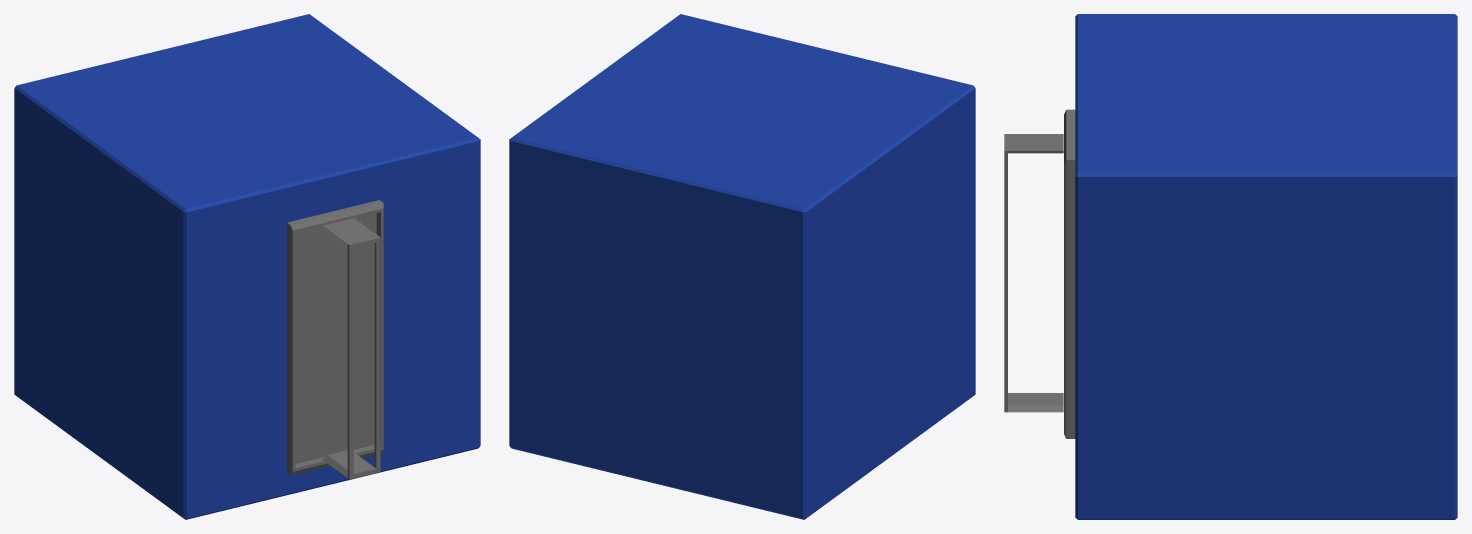
The model's file is TimeCube.fbx.
3 views of the same model, side by side, from view 1: azimuth 30°, elevation 25°; view 2: azimuth 150°, elevation 25°; view 3: azimuth 270°, elevation 25° (orthographic). The views are drawn at different scales.
Parts seen in each view (by area): view 1: TimeCube; view 2: TimeCube; view 3: TimeCube.
Part boxes in pixels (<box>): TimeCube: <box>14,14,480,519</box>; TimeCube: <box>509,14,975,519</box>; TimeCube: <box>1004,14,1457,519</box>.
Bounding box in the file's own units: 50 × 50 × 59.28.
